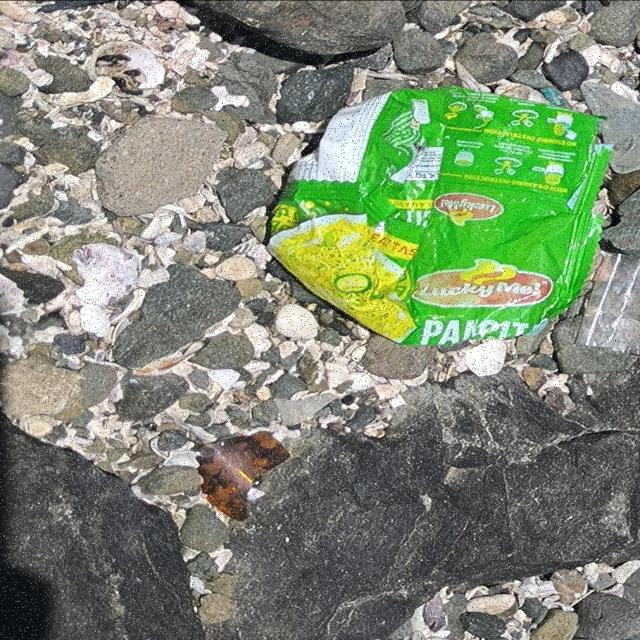plastic_waste: (264, 84, 619, 348)
